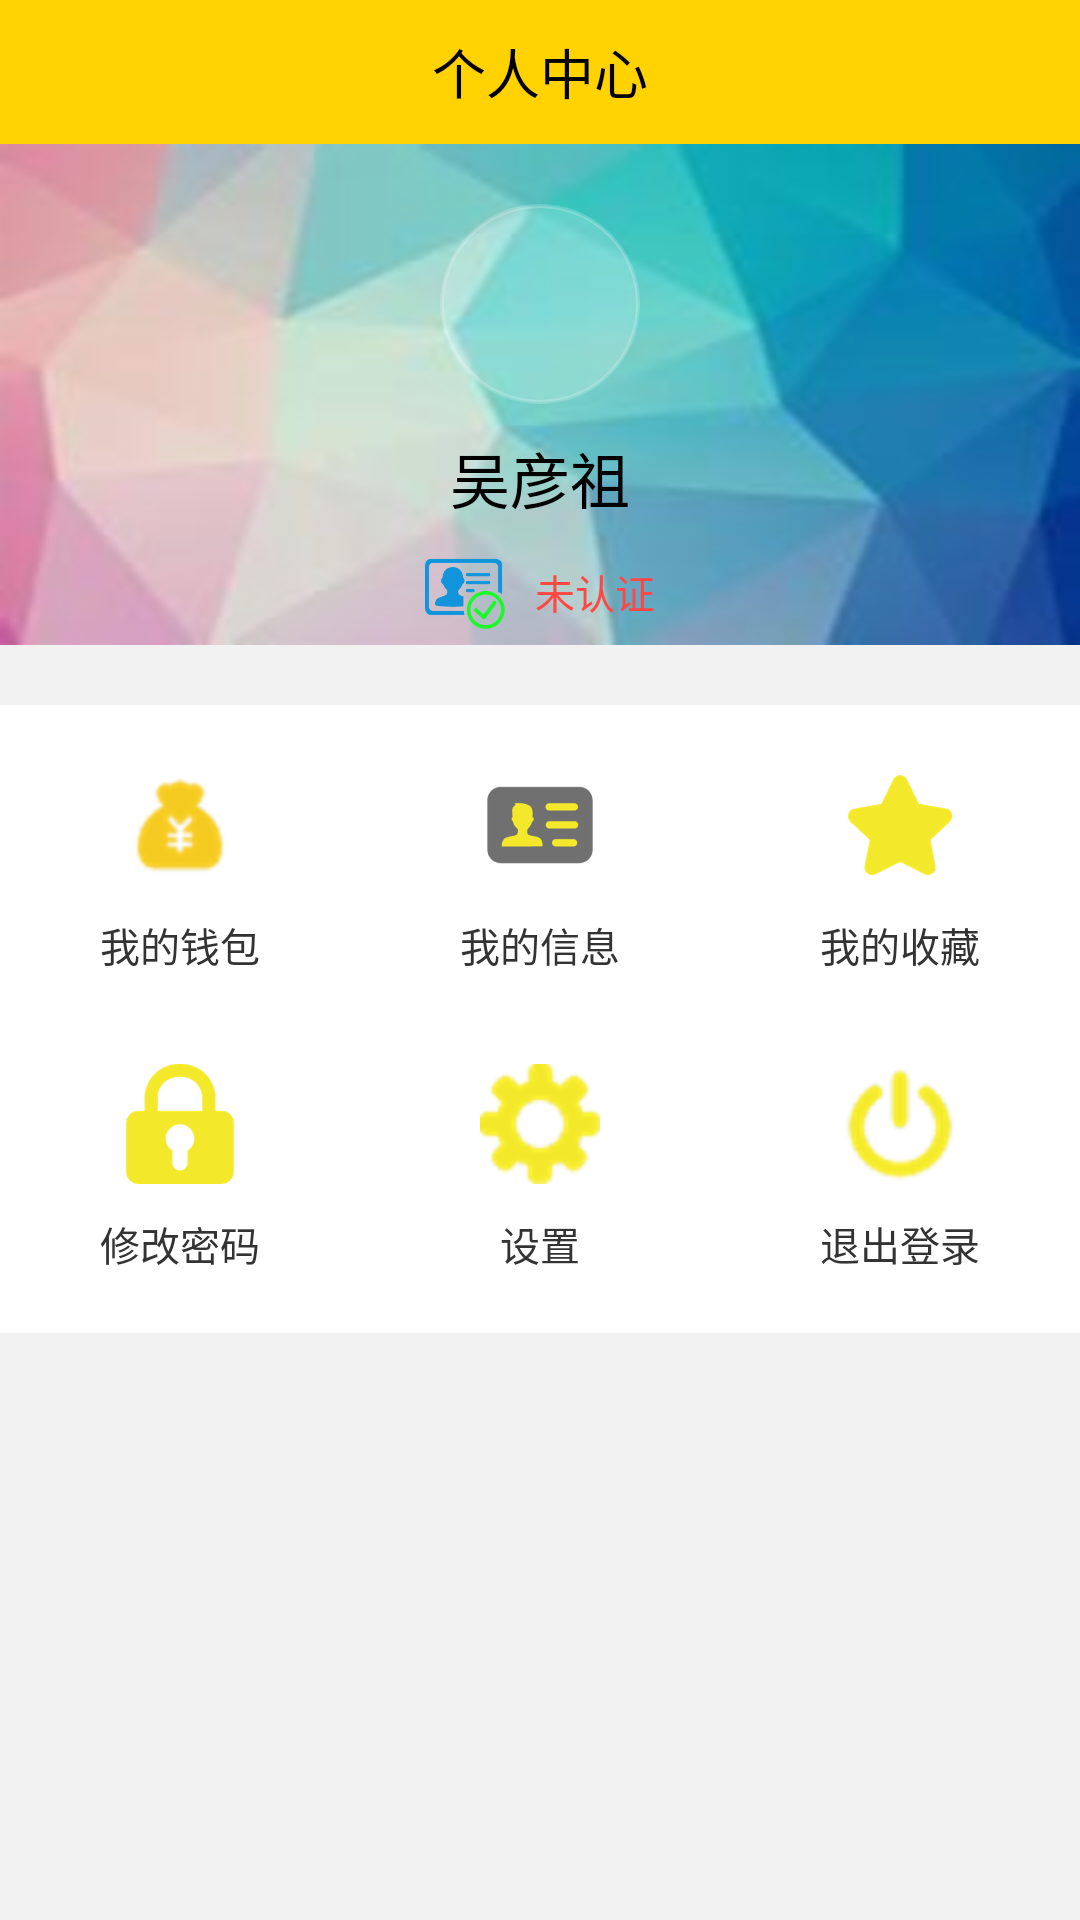

Named icons in this screenshot (1080 x 1920) and their centers, point (x, y):
person fragment info: point (540, 825)
person fragment love: point (900, 825)
person fragment money: point (180, 825)
person fragment user kyc: point (465, 592)
